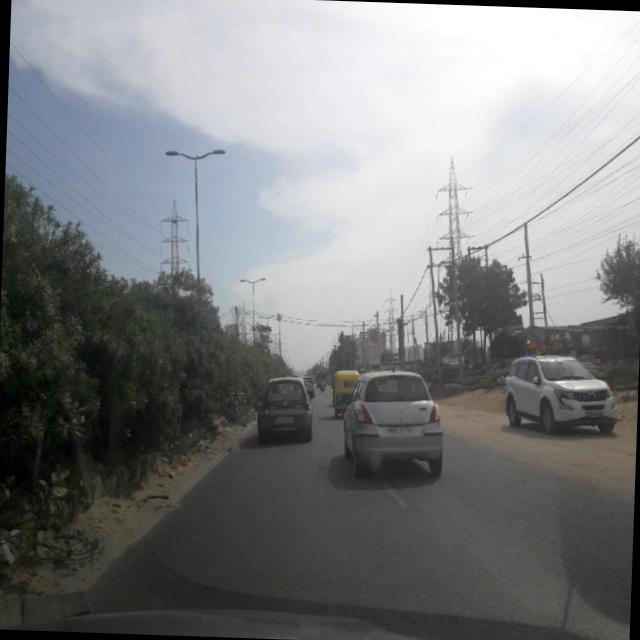crack: (153, 464, 634, 640)
